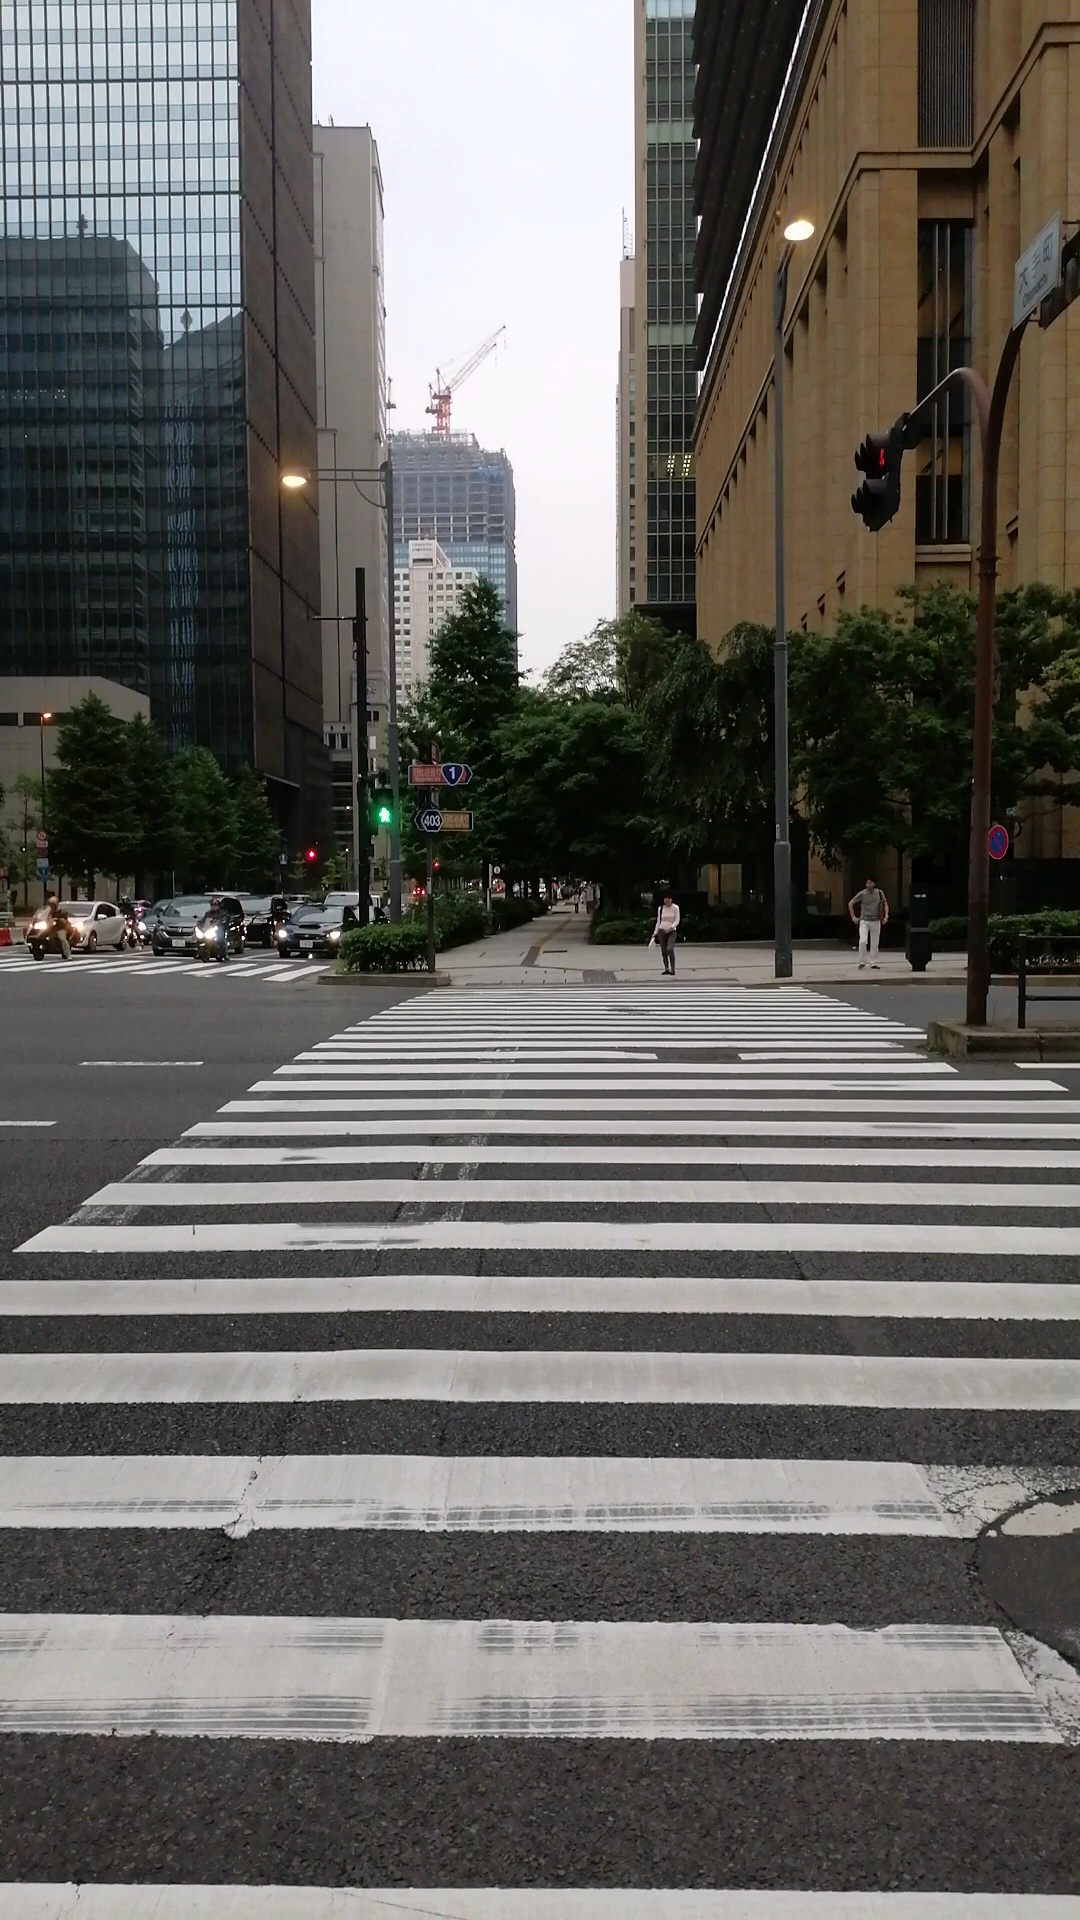green: (373, 789, 396, 829)
